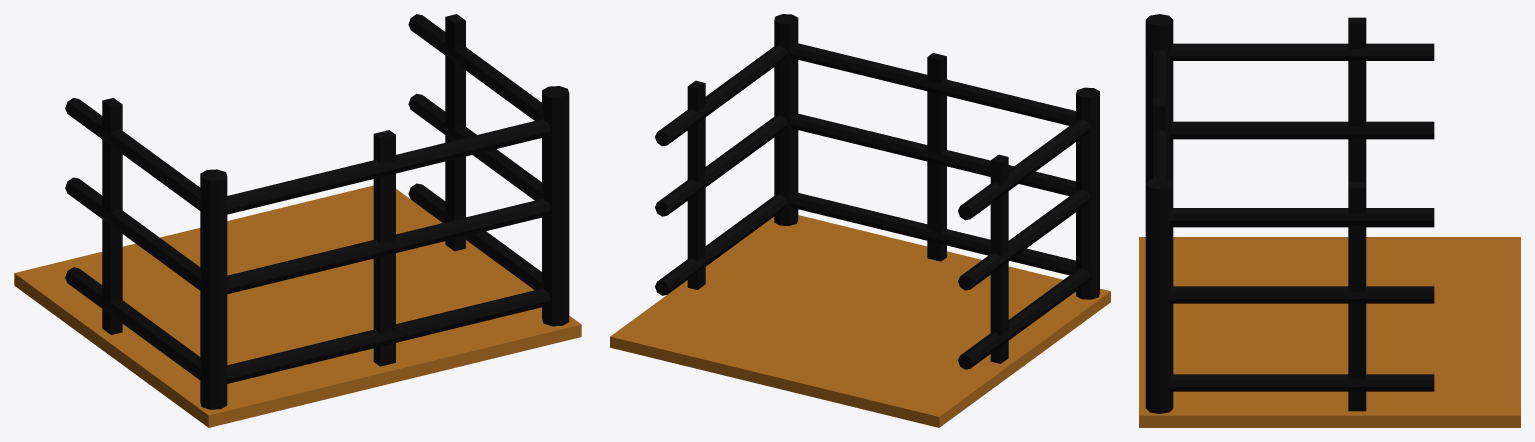
Rendered from Balcony01_house5.obj.
3 renders of one model, left to right at view 1: azimuth 30°, elevation 25°; view 2: azimuth 150°, elevation 25°; view 3: azimuth 270°, elevation 25°, orthographic. The views are drawn at different scales.
Visible parts, largest first — view 1: Balcony01_House05_Cylinder.004; view 2: Balcony01_House05_Cylinder.004; view 3: Balcony01_House05_Cylinder.004.
Part boxes in pixels (box(x1,y1,x2,y2)): Balcony01_House05_Cylinder.004: box(14, 14, 581, 427); Balcony01_House05_Cylinder.004: box(610, 14, 1110, 427); Balcony01_House05_Cylinder.004: box(1139, 14, 1520, 427).
Size of the model in its own units: 4.61 by 2.85 by 4.16.
